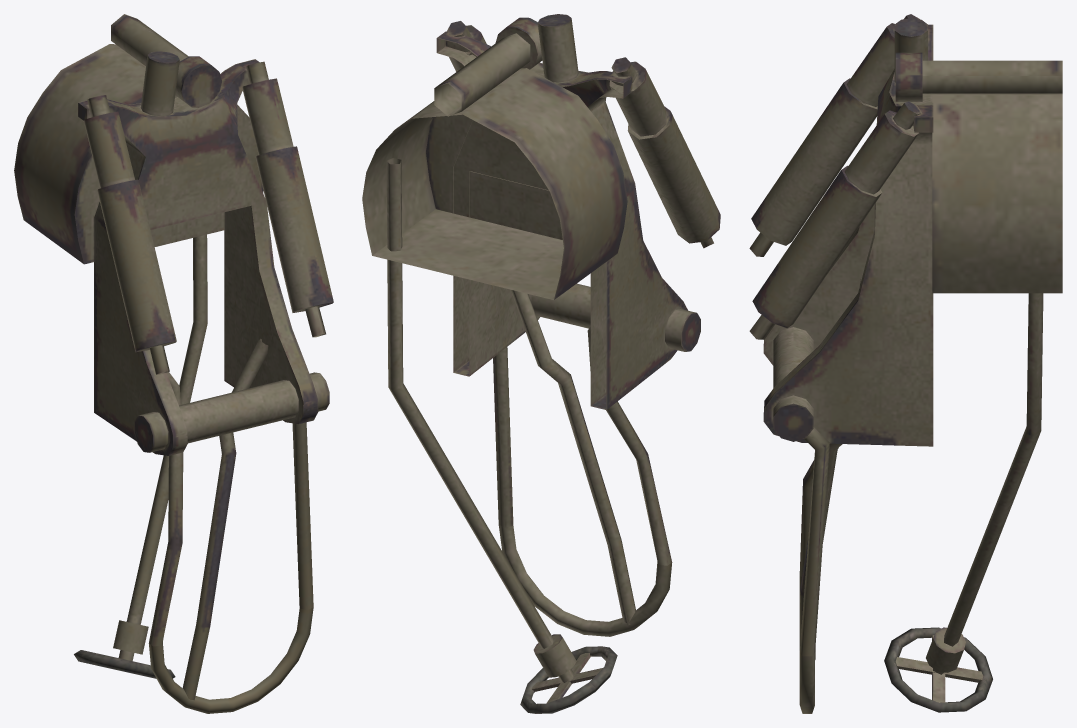
Rendered from Turret_02.glb.
3 views of the same model, side by side, from view 1: azimuth 30°, elevation 25°; view 2: azimuth 150°, elevation 25°; view 3: azimuth 270°, elevation 25° (orthographic). The views are drawn at different scales.
Visible parts, largest first — view 1: set_0_group_0; view 2: set_0_group_0; view 3: set_0_group_0.
Boxes of the visible parts, x1=… form: set_0_group_0: x1=14, y1=14, x2=333, y2=713; set_0_group_0: x1=362, y1=14, x2=720, y2=713; set_0_group_0: x1=749, y1=14, x2=1062, y2=713.
Bounding box in the file's own units: 0.4686 × 1.4 × 0.5785.
Materials: 1 (1 with a texture image).
